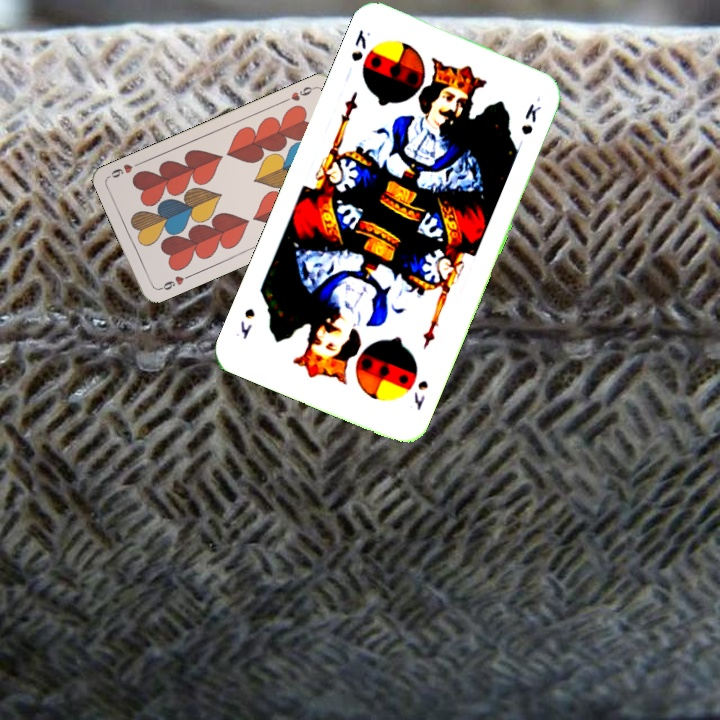H9: (279, 82, 317, 105), (154, 271, 193, 293)
SK: (347, 25, 373, 64), (409, 376, 431, 414)
